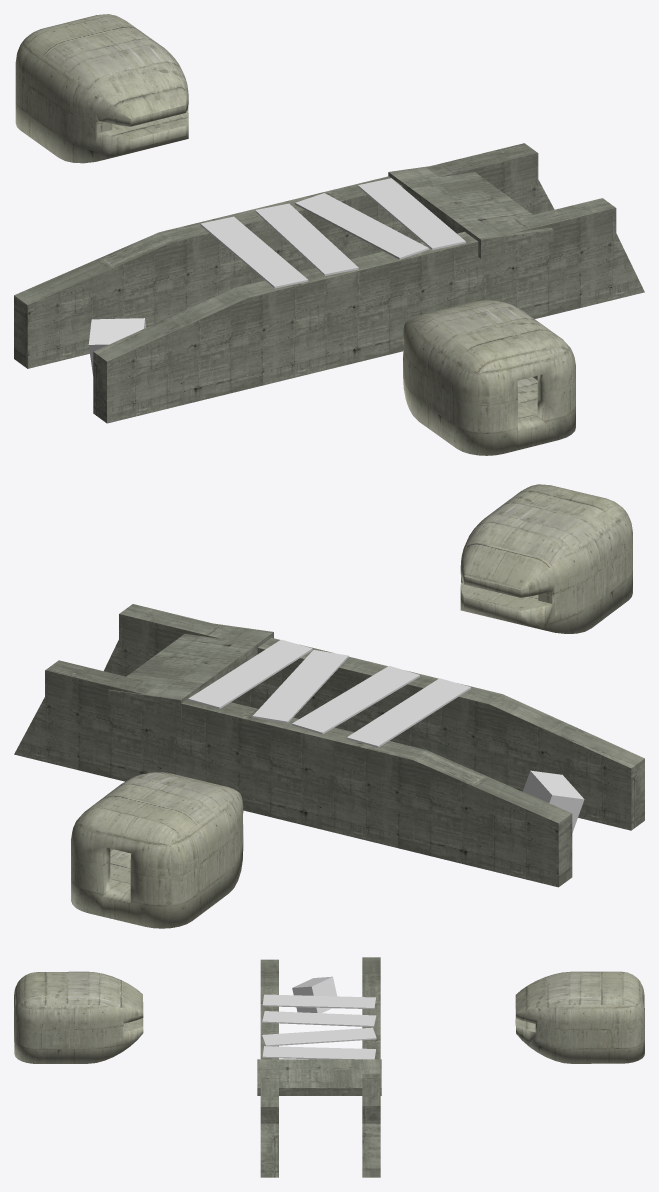
Rendered from SM_Level_PlageTymoes_Buildings01.fbx.
3 renders of one model, top to bottom at view 1: azimuth 30°, elevation 25°; view 2: azimuth 150°, elevation 25°; view 3: azimuth 270°, elevation 25°, orthographic. The views are drawn at different scales.
Visible parts, largest first — view 1: SM_Level_PlageTymoes_Buildings01; view 2: SM_Level_PlageTymoes_Buildings01; view 3: SM_Level_PlageTymoes_Buildings01.
Boxes of the visible parts, x1=… form: SM_Level_PlageTymoes_Buildings01: x1=14, y1=14, x2=644, y2=455; SM_Level_PlageTymoes_Buildings01: x1=14, y1=484, x2=644, y2=928; SM_Level_PlageTymoes_Buildings01: x1=14, y1=957, x2=644, y2=1177.
Bounding box in the file's own units: 4199 × 1071 × 6309.
